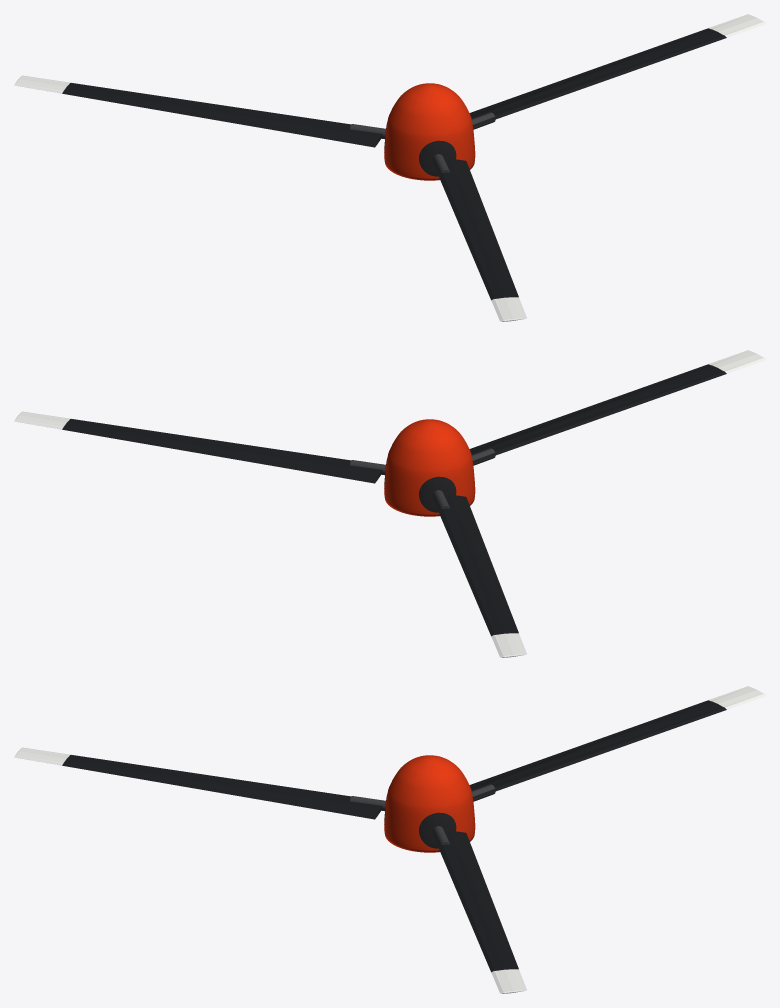
Rendered from rotor_3.glb.
The picture shows the model from 3 angles, top to bottom: view 1: azimuth 30°, elevation 25°; view 2: azimuth 150°, elevation 25°; view 3: azimuth 270°, elevation 25°; orthographic projection.
Parts seen in each view (by area): view 1: rotor_3; view 2: rotor_3; view 3: rotor_3.
Part boxes in pixels (<box>): rotor_3: <box>14,14,765,321</box>; rotor_3: <box>14,350,765,657</box>; rotor_3: <box>14,686,765,993</box>.
Bounding box in the file's own units: 4.61 × 0.5303 × 4.78.
